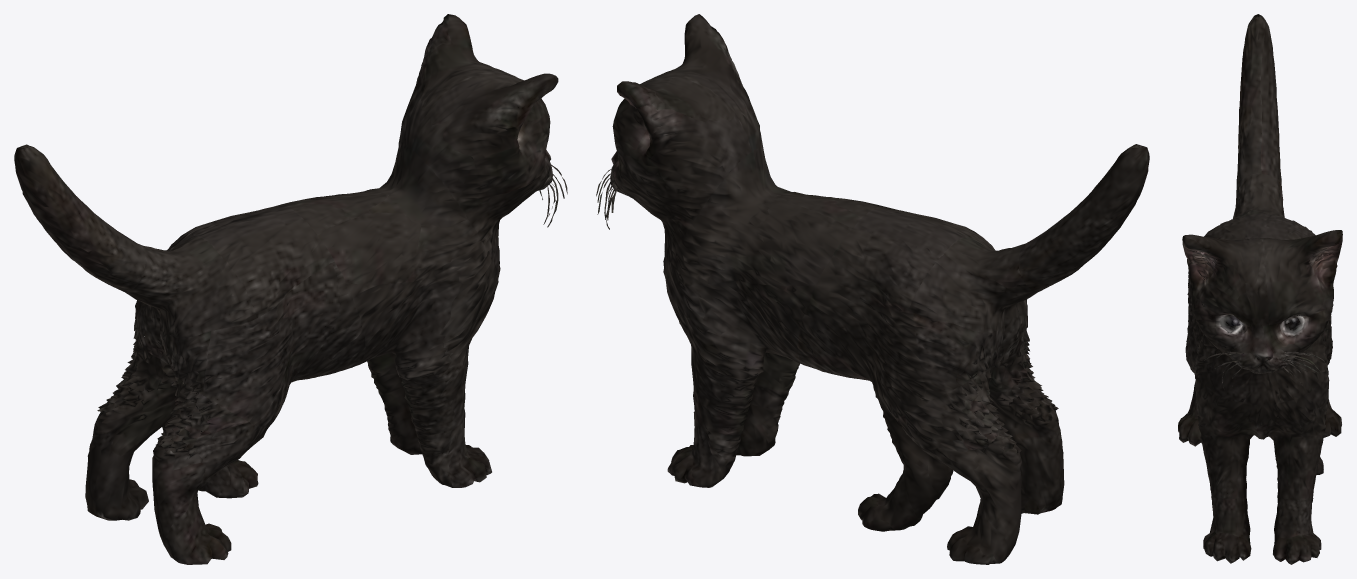
File: BROWANTSIN.glb
3 renders of one model, left to right at view 1: azimuth 30°, elevation 25°; view 2: azimuth 150°, elevation 25°; view 3: azimuth 270°, elevation 25°, orthographic. The views are drawn at different scales.
Parts seen in each view (by area): view 1: tripo_node_0ba194fa-5db6-4d5a-857e-5e34ae088029; view 2: tripo_node_0ba194fa-5db6-4d5a-857e-5e34ae088029; view 3: tripo_node_0ba194fa-5db6-4d5a-857e-5e34ae088029.
Part boxes in pixels (x1,y1,x2,y2): tripo_node_0ba194fa-5db6-4d5a-857e-5e34ae088029: (14, 14, 567, 564); tripo_node_0ba194fa-5db6-4d5a-857e-5e34ae088029: (596, 14, 1149, 564); tripo_node_0ba194fa-5db6-4d5a-857e-5e34ae088029: (1178, 14, 1342, 564).
Size of the model in its own units: 1.33 by 0.9978 by 0.4123.
Materials: 1 (1 with a texture image).
